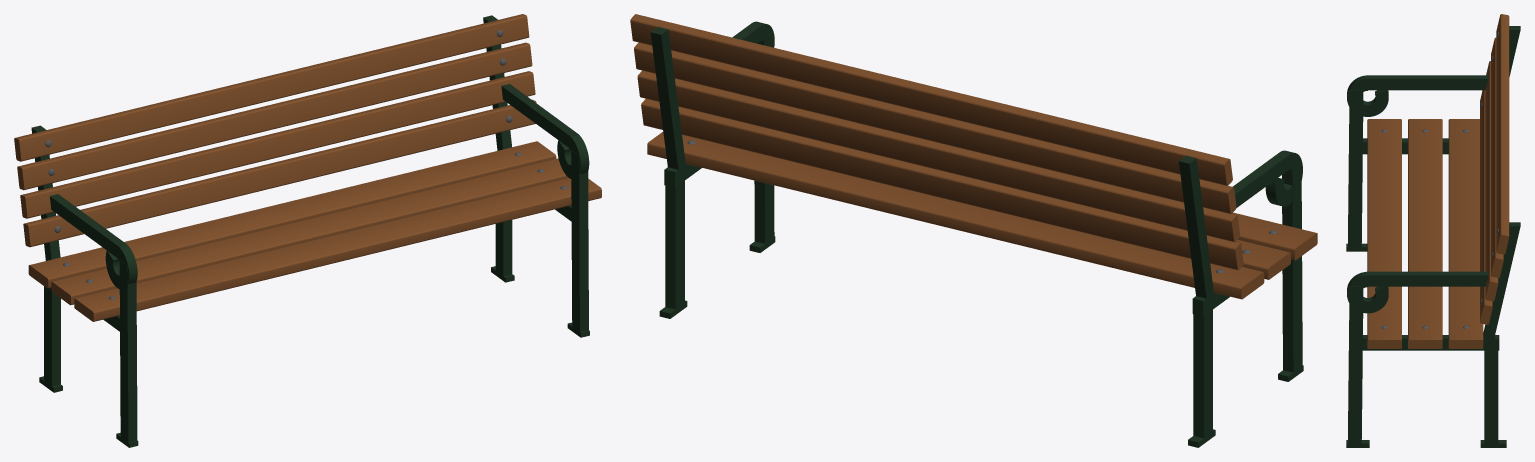
File: park-bench.glb
The picture shows the model from 3 angles, left to right: view 1: azimuth 30°, elevation 25°; view 2: azimuth 150°, elevation 25°; view 3: azimuth 270°, elevation 25°; orthographic projection. The views are drawn at different scales.
Visible parts, largest first — view 1: seat_slat_1, back_slat_1, back_slat_2, back_slat_3, back_slat_4, seat_slat_3, seat_slat_2, bench_frame_left_obj, bench_frame_right_obj; view 2: seat_slat_3, back_slat_1, back_slat_2, back_slat_3, back_slat_4, bench_frame_left_obj, bench_frame_right_obj, seat_slat_1, seat_slat_2; view 3: bench_frame_right_obj, seat_slat_2, seat_slat_1, seat_slat_3, bench_frame_left_obj, back_slat_1, back_slat_2, back_slat_3, back_slat_4, bolts.
Part boxes in pixels (left/top/right/bottom): seat_slat_1: left=74, top=178, right=601, bottom=321; back_slat_1: left=14, top=14, right=529, bottom=161; back_slat_2: left=17, top=42, right=532, bottom=190; back_slat_3: left=20, top=71, right=535, bottom=218; back_slat_4: left=23, top=99, right=536, bottom=247; seat_slat_3: left=28, top=141, right=556, bottom=288; seat_slat_2: left=51, top=158, right=568, bottom=305; bench_frame_left_obj: left=31, top=125, right=138, bottom=447; bench_frame_right_obj: left=483, top=15, right=589, bottom=337; seat_slat_3: left=647, top=132, right=1264, bottom=299; back_slat_1: left=630, top=14, right=1232, bottom=185; back_slat_2: left=634, top=42, right=1236, bottom=214; back_slat_3: left=637, top=70, right=1239, bottom=242; back_slat_4: left=641, top=99, right=1243, bottom=270; bench_frame_left_obj: left=1179, top=150, right=1303, bottom=447; bench_frame_right_obj: left=650, top=21, right=775, bottom=318; seat_slat_1: left=1232, top=212, right=1317, bottom=260; seat_slat_2: left=1236, top=239, right=1290, bottom=279; bench_frame_right_obj: left=1346, top=222, right=1520, bottom=447; seat_slat_2: left=1408, top=119, right=1442, bottom=348; seat_slat_1: left=1367, top=119, right=1401, bottom=348; seat_slat_3: left=1448, top=119, right=1483, bottom=348; bench_frame_left_obj: left=1346, top=26, right=1520, bottom=251; back_slat_1: left=1496, top=14, right=1509, bottom=254; back_slat_2: left=1491, top=37, right=1503, bottom=277; back_slat_3: left=1485, top=61, right=1498, bottom=301; back_slat_4: left=1480, top=90, right=1492, bottom=324; bolts: left=1381, top=32, right=1498, bottom=328.
Size of the model in its own units: 1.8 by 0.8489 by 0.6.
